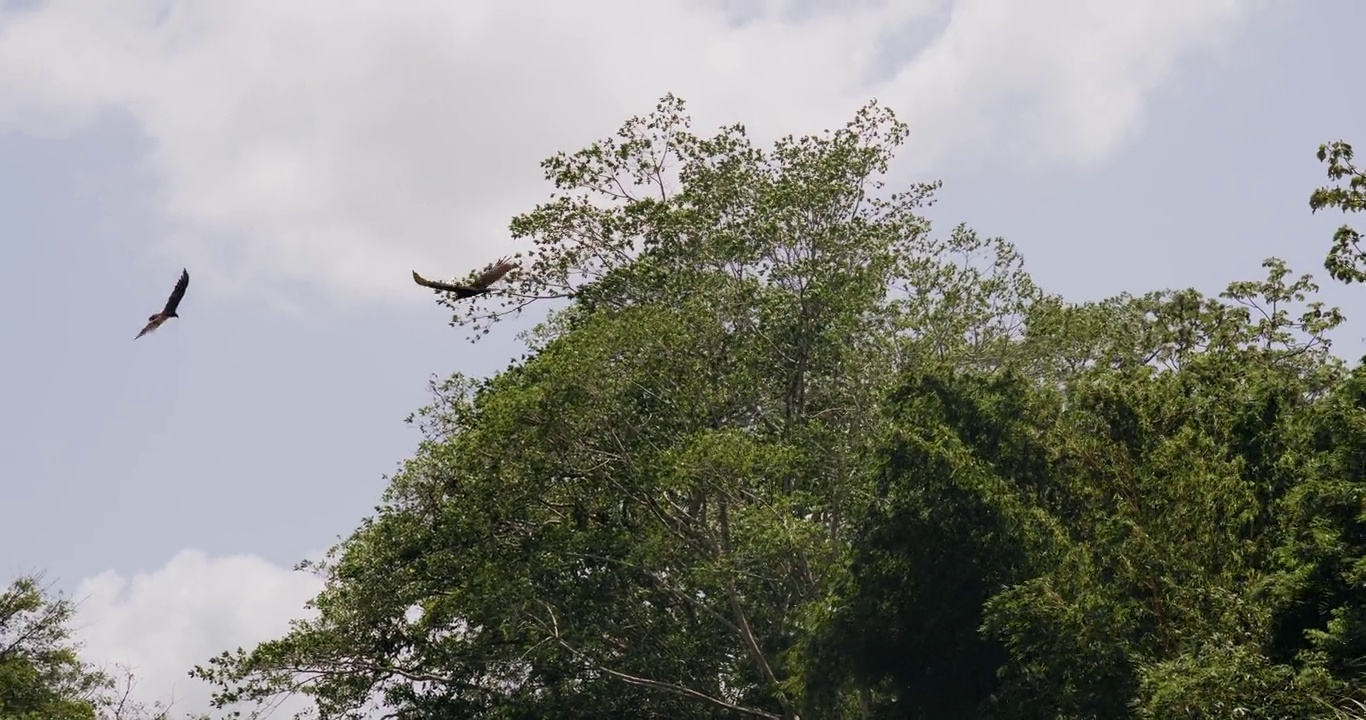bird: (133, 265, 188, 337), (411, 260, 508, 295)
